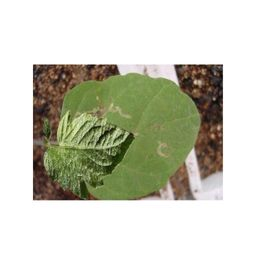liriomyza: (106, 97, 133, 124), (154, 138, 172, 158)
